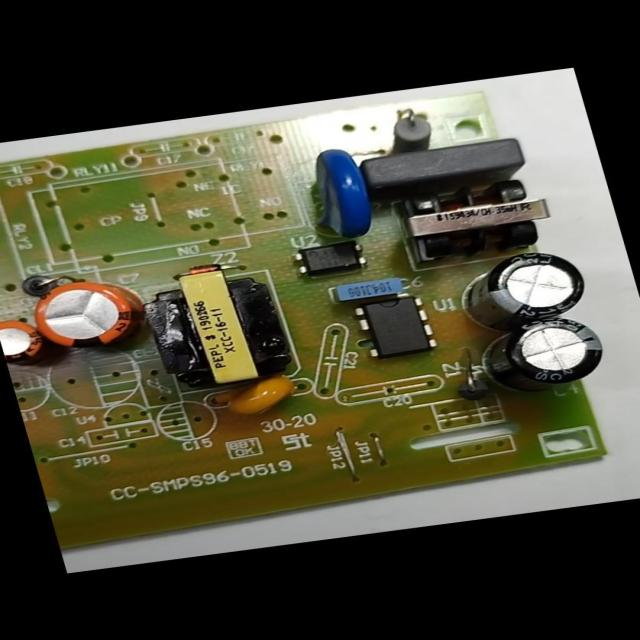Cap1: (22, 263, 161, 361)
Cap2: (0, 308, 59, 368)
Cap3: (442, 240, 600, 338)
Cap4: (461, 306, 620, 398)
MOSFET: (349, 287, 448, 366)
Mov: (296, 139, 392, 247)
Resistor: (370, 100, 452, 154)
Transformer: (130, 253, 312, 398), (386, 169, 569, 271)
